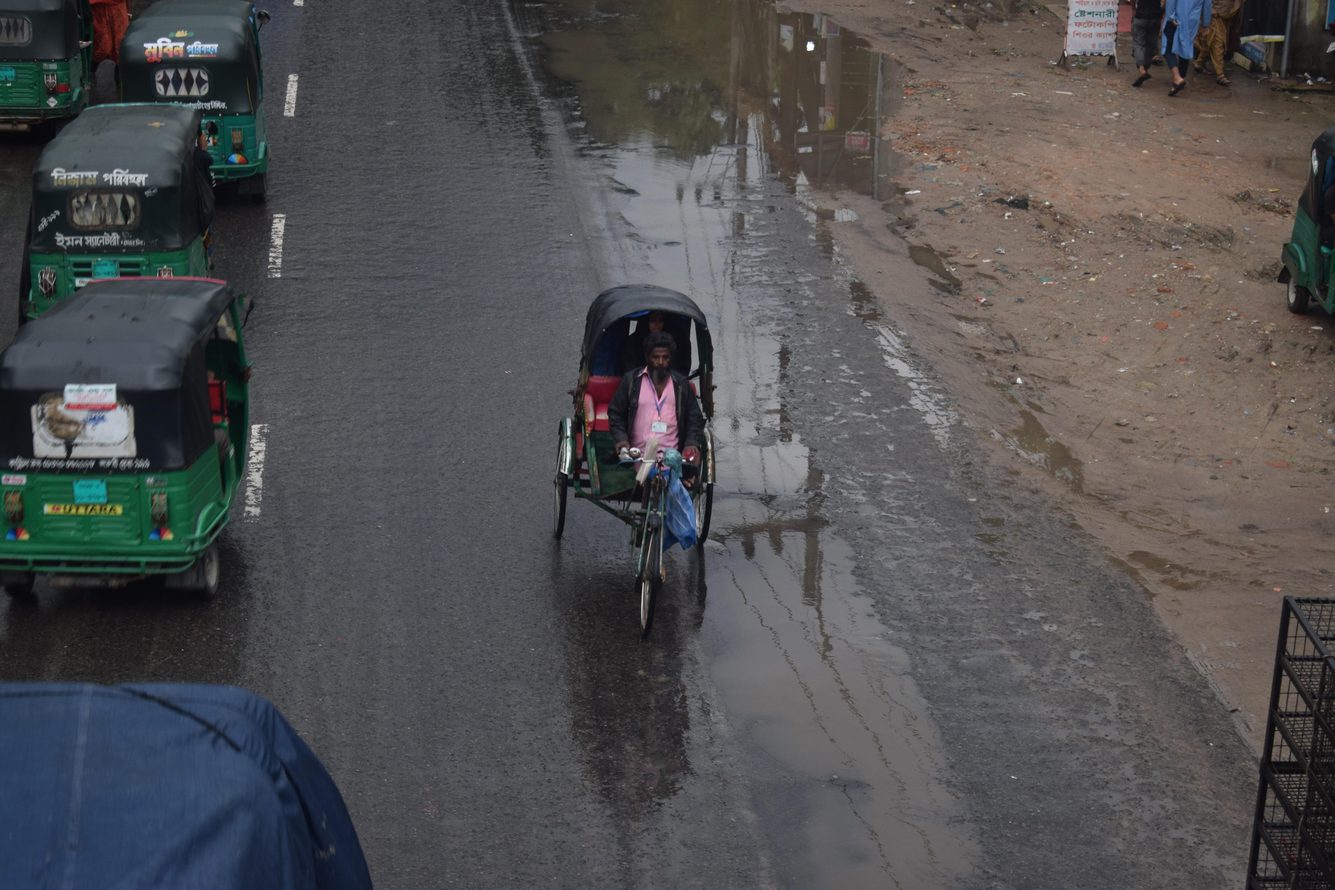Car: (490, 245, 784, 658)
